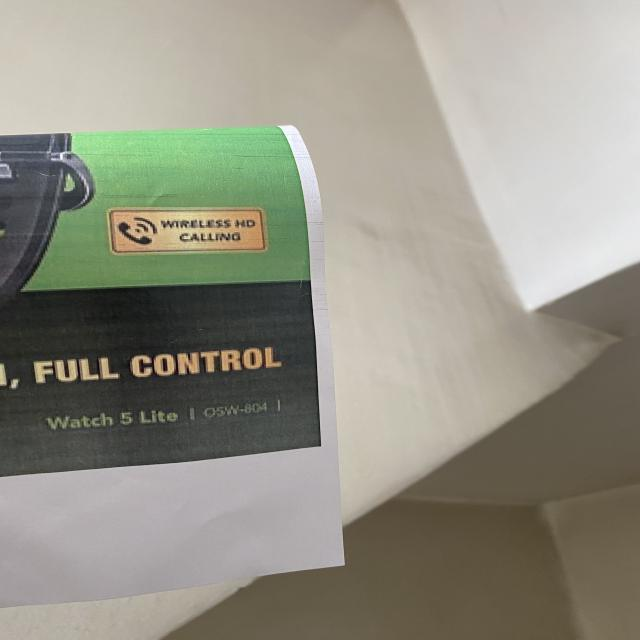Watch 5 Lite OSW-804: (39, 390, 295, 442)
